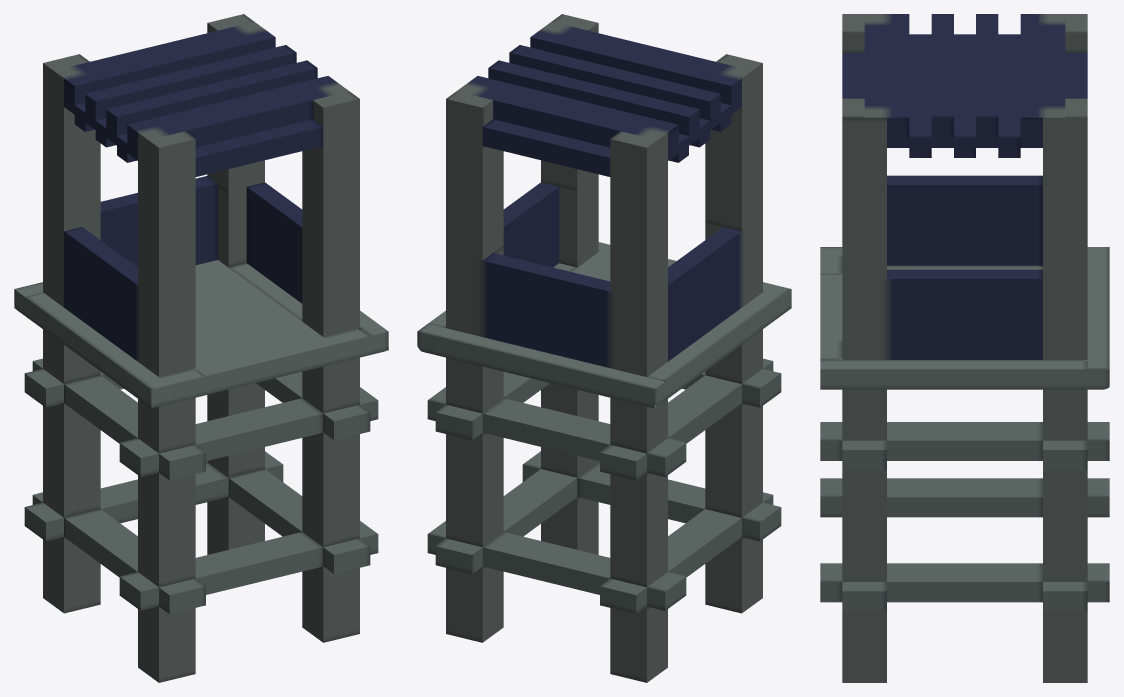
Rendered from wierzyczka.dae.
3 renders of one model, left to right at view 1: azimuth 30°, elevation 25°; view 2: azimuth 150°, elevation 25°; view 3: azimuth 270°, elevation 25°, orthographic. The views are drawn at different scales.
Visible parts, largest first — view 1: Content; view 2: Content; view 3: Content.
Boxes of the visible parts, x1=… form: Content: x1=14, y1=14, x2=388, y2=682; Content: x1=417, y1=14, x2=791, y2=682; Content: x1=820, y1=14, x2=1109, y2=682.
Bounding box in the file's own units: 26 × 56 × 26.
1 material, 1 textured.
